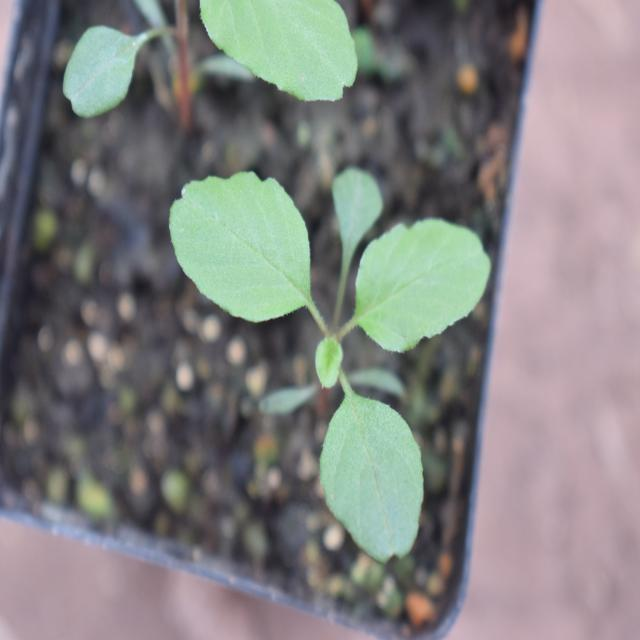pigweed: (164, 153, 488, 560)
